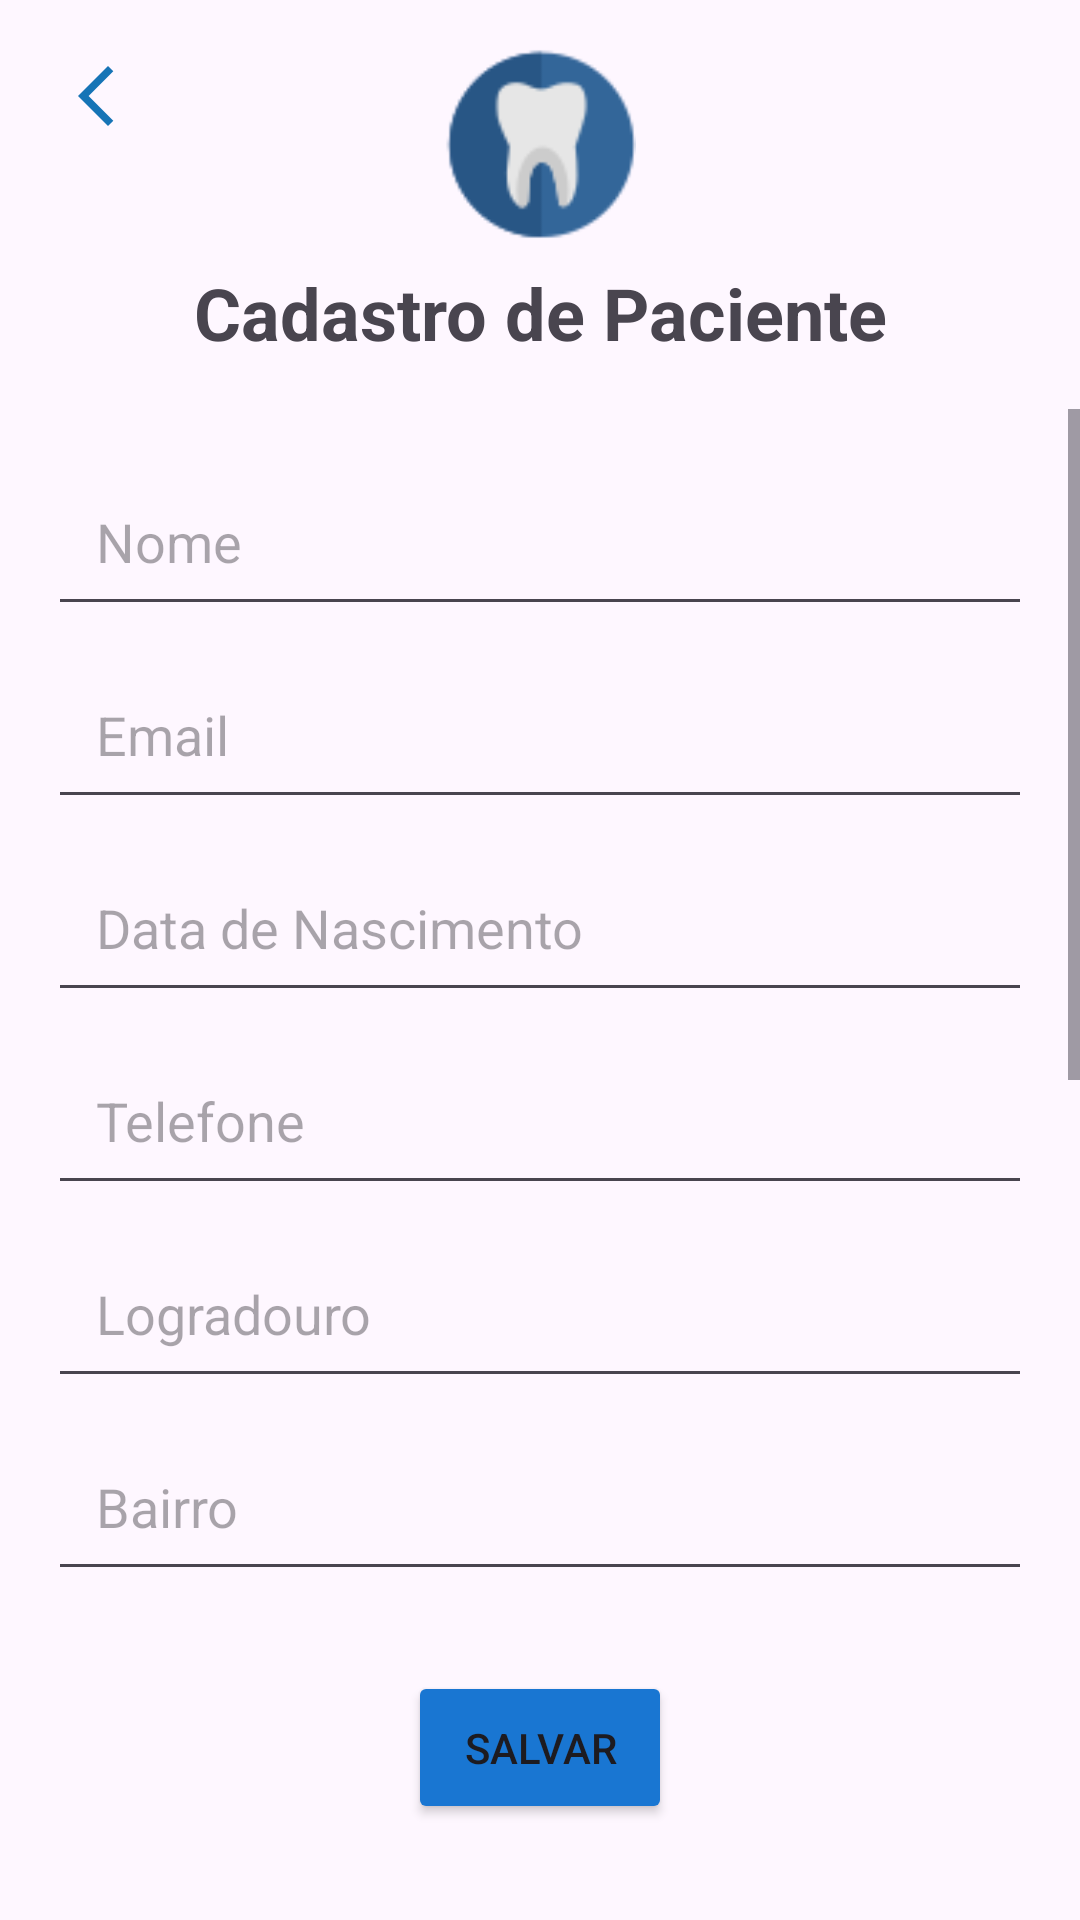

Screen size 1080 × 1920. Icon name, then its center in pixels as [x,y]:
dente: [541,144]
Voltar: [95,96]
